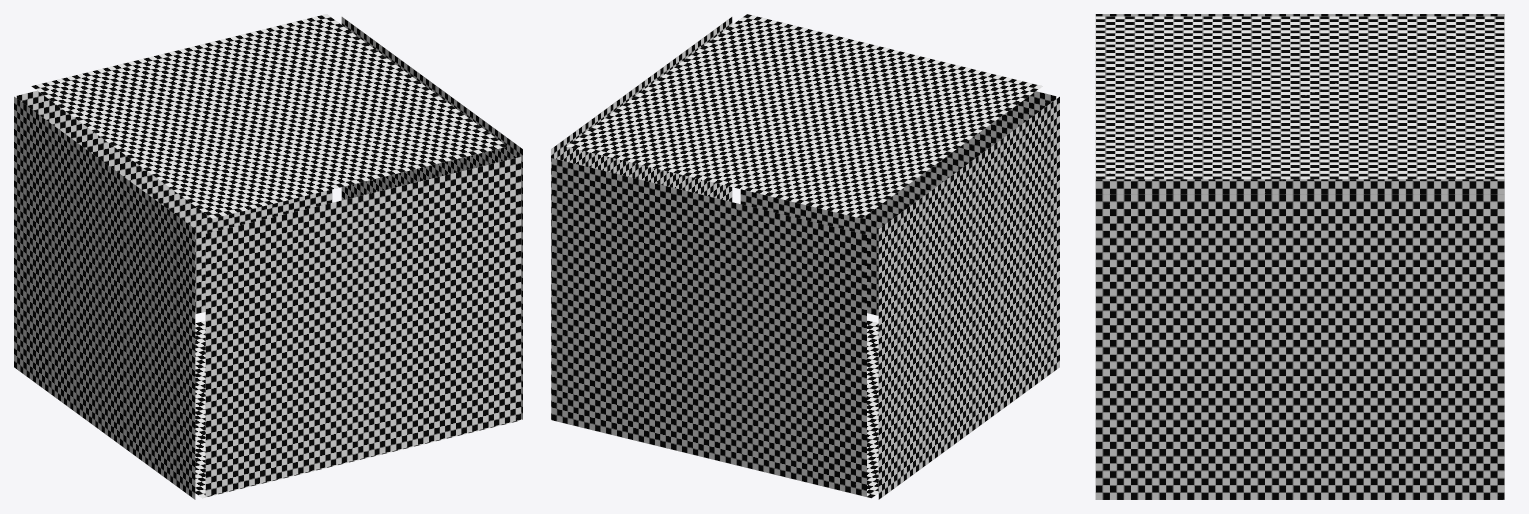
Rendered from pattern2-9x9x5.gltf.
3 views of the same model, side by side, from view 1: azimuth 30°, elevation 25°; view 2: azimuth 150°, elevation 25°; view 3: azimuth 270°, elevation 25° (orthographic). The views are drawn at different scales.
Visible parts, largest first — view 1: Cube.005; view 2: Cube.005; view 3: Cube.005.
Boxes of the visible parts, x1,y1,x2,y2 form: Cube.005: (14,14,522,499); Cube.005: (551,14,1059,499); Cube.005: (1095,14,1504,499).
Bounding box in the file's own units: 3 × 2.43 × 3.
1 material, 1 textured.
